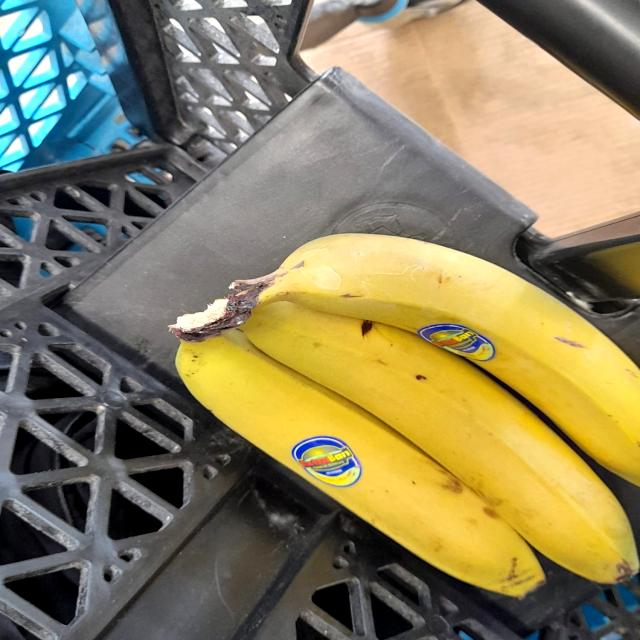banana: (153, 213, 640, 605)
